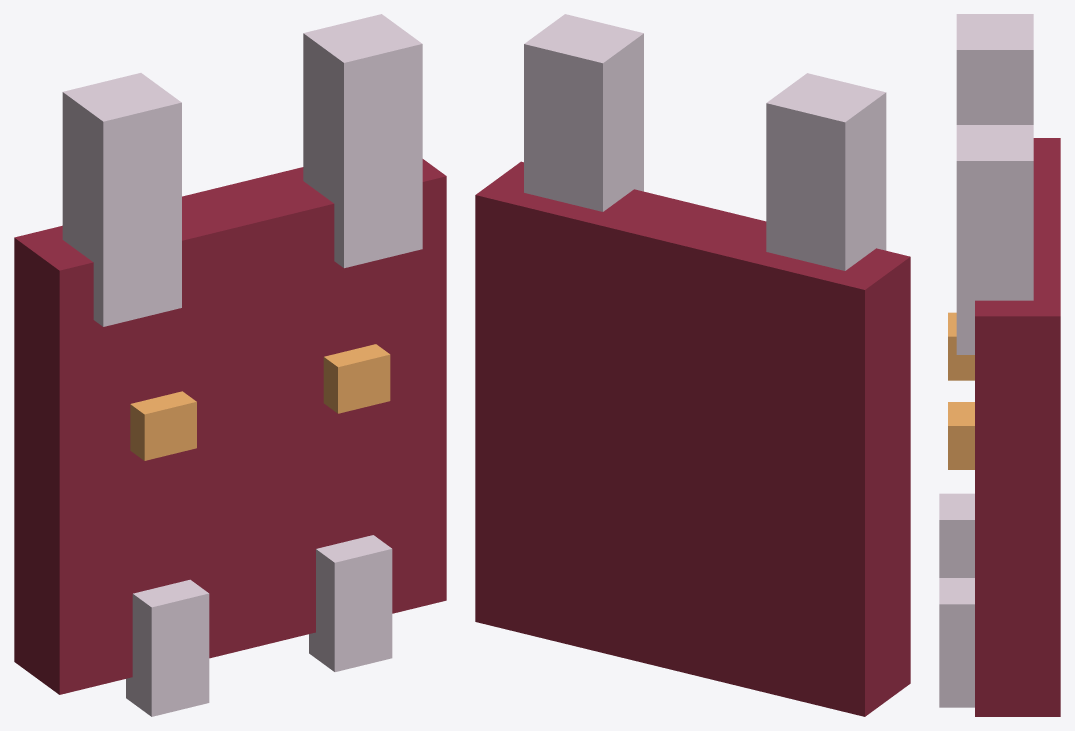
Rendered from KGB_MASK_Oni_CLOSED_DRAFT_v01.obj.
The picture shows the model from 3 angles, left to right: view 1: azimuth 30°, elevation 25°; view 2: azimuth 150°, elevation 25°; view 3: azimuth 270°, elevation 25°; orthographic projection. The views are drawn at different scales.
Size of the model in its own units: 1.48 by 2.19 by 0.425.
